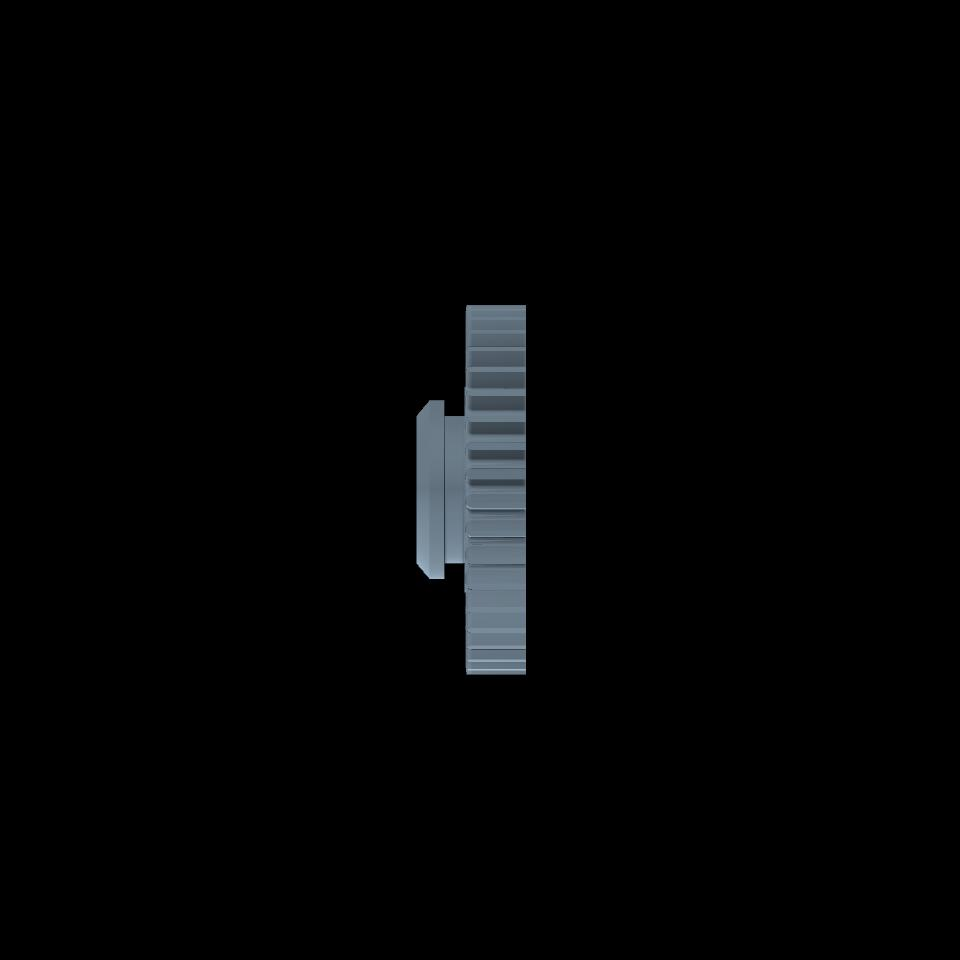Straight: (469, 306, 524, 672)
